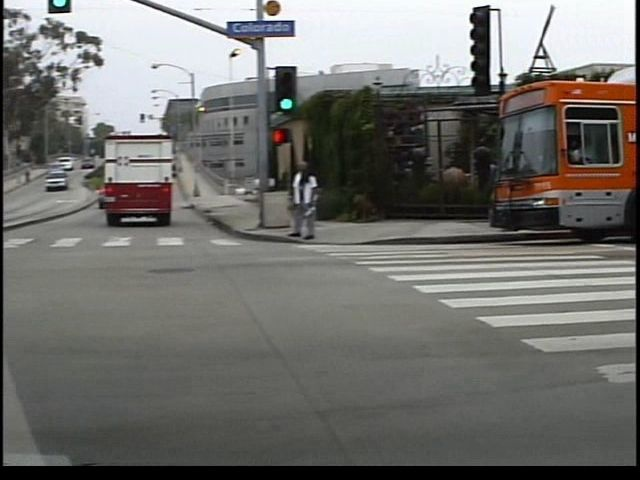person: (294, 156, 326, 241)
